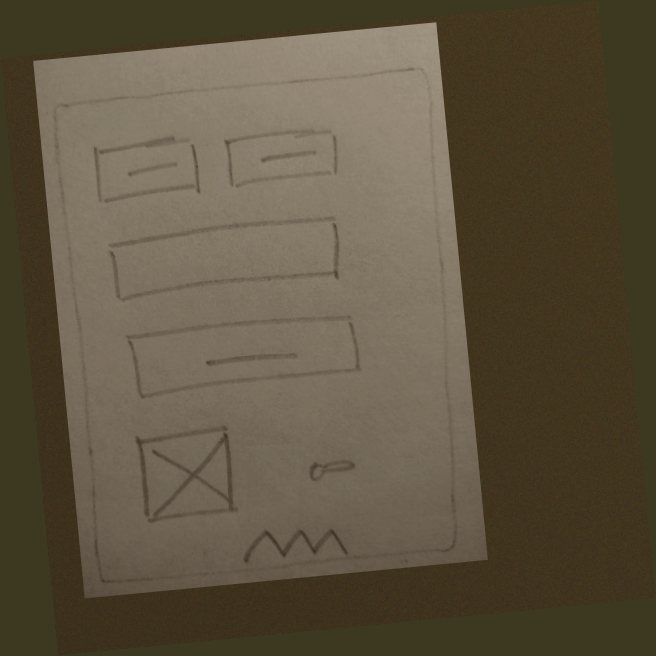button: (113, 303, 378, 406), (216, 117, 350, 195), (84, 130, 209, 208)
image: (126, 415, 254, 530)
switch: (296, 447, 365, 488)
text: (234, 516, 353, 567)
text_input: (90, 206, 363, 312)
